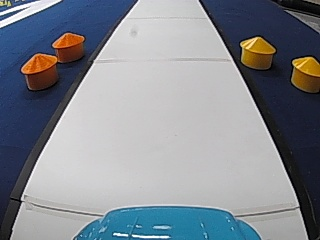granary: (19, 50, 58, 90), (238, 33, 276, 69), (288, 53, 320, 91), (50, 30, 85, 62)
